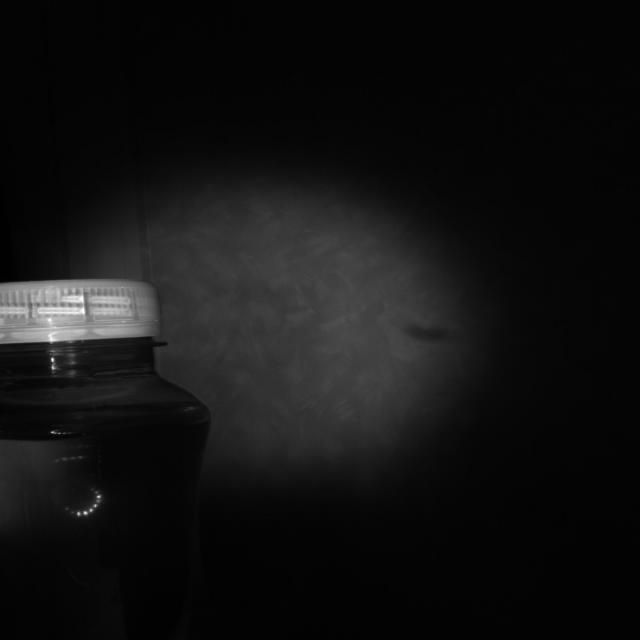Good: (0, 274, 161, 345)
